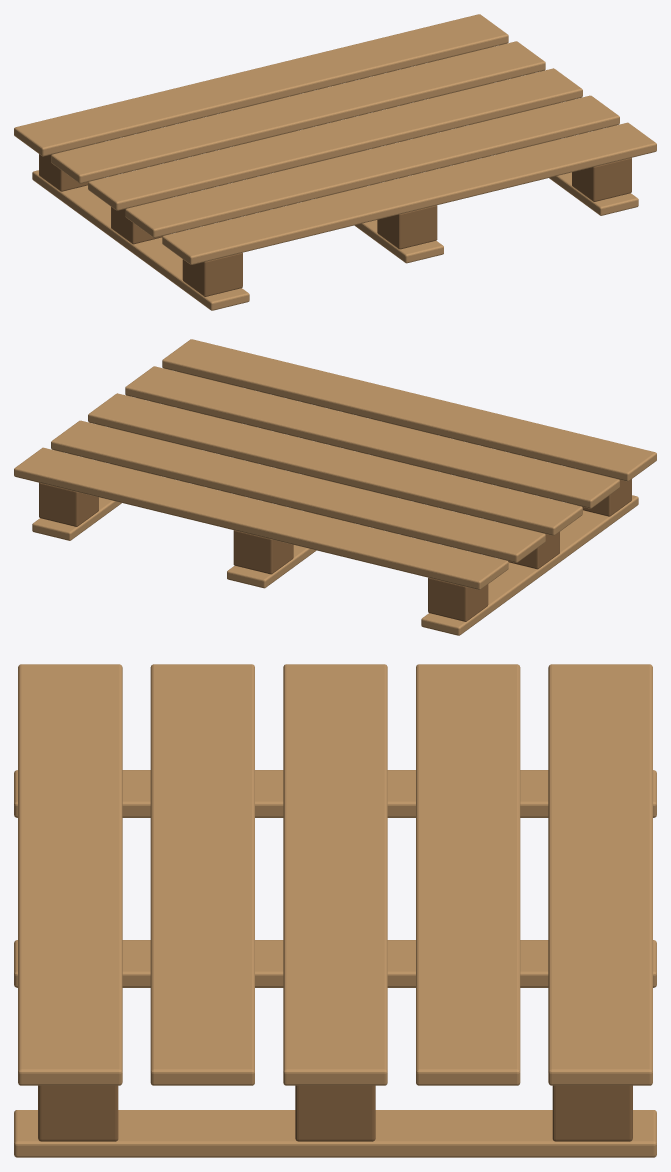
The model's file is wood-pallet-01.glb.
The picture shows the model from 3 angles, top to bottom: view 1: azimuth 30°, elevation 25°; view 2: azimuth 150°, elevation 25°; view 3: azimuth 270°, elevation 25°; orthographic projection. The views are drawn at different scales.
Visible parts, largest first — view 1: wood-pallet-01; view 2: wood-pallet-01; view 3: wood-pallet-01.
Boxes of the visible parts, x1,y1,x2,y2 form: wood-pallet-01: (14, 14, 656, 310); wood-pallet-01: (14, 339, 656, 635); wood-pallet-01: (14, 664, 656, 1157).
Size of the model in its own units: 1.2 by 0.144 by 0.8.
